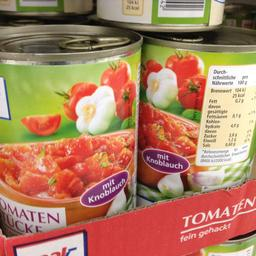tomato_sauce: (0, 20, 139, 234), (140, 28, 252, 198)
